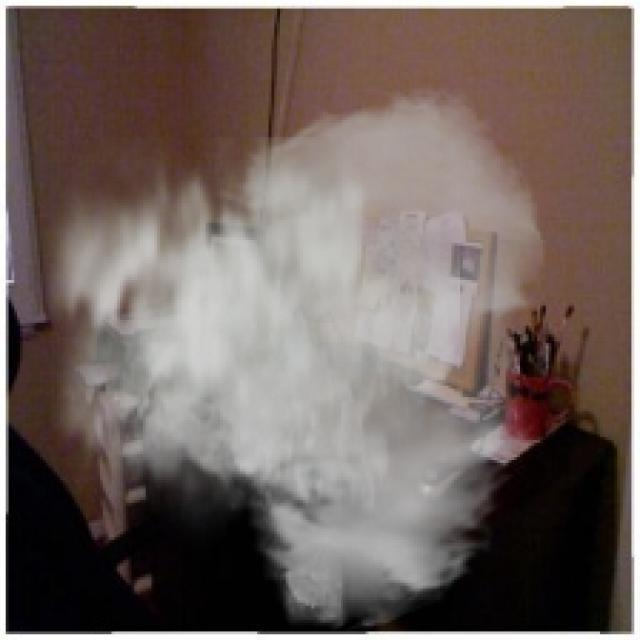Smoke: (20, 82, 549, 634)
